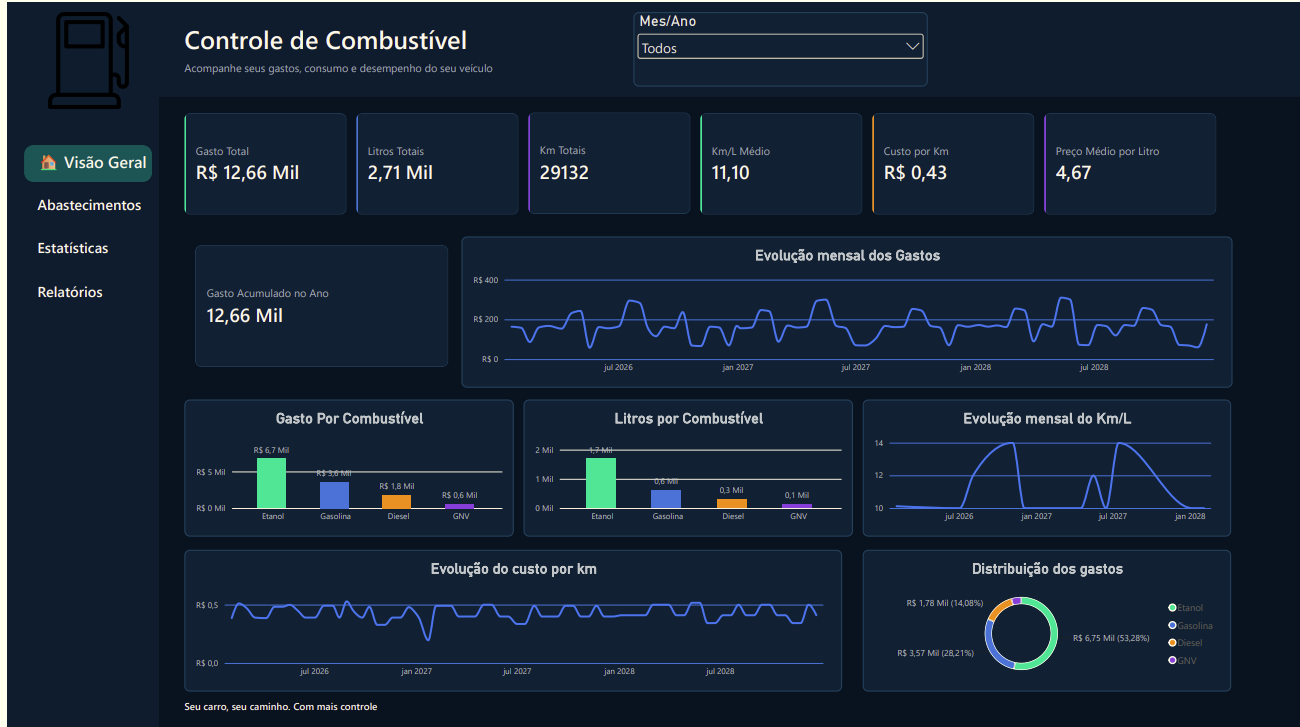

The page's visual inventory and layout, read from the dashboard file:
{"tool":"powerbi","page":{"name":"Página 1","canvas":[1920,1080],"ordinal":0},"visuals":[{"type":"shape","box":[0,0,1920.2,140.4],"z":0},{"type":"cardVisual","fields":{"Data":["Sum(Tabela1.Valor)"]},"box":[263,165,240,150],"z":1000},{"type":"cardVisual","fields":{"Data":["Sum(Tabela1.Litros)"]},"box":[518,165,240,150],"z":2000},{"type":"cardVisual","fields":{"Data":["Sum(Tabela1.Km Rodados)"]},"box":[773.3,164.2,240,150],"z":3000},{"type":"cardVisual","fields":{"Data":["Avg(Tabela1.Km/L)"]},"box":[1028,165,240,150],"z":4000},{"type":"cardVisual","fields":{"Data":["Tabela1.Custo por Km"]},"box":[1283,165,240,150],"z":5000},{"type":"columnChart","title":"Gasto Por Combustível","fields":{"Category":["Tabela1.Combustivel"],"Y":["Sum(Tabela1.Valor)"]},"box":[263,590,488,203],"z":6000},{"type":"columnChart","title":"Litros por Combustível","fields":{"Category":["Tabela1.Combustivel"],"Y":["Sum(Tabela1.Litros)"]},"box":[766,590,488,203],"z":7000},{"type":"lineChart","title":"Evolução mensal dos Gastos","fields":{"Category":["Tabela1.Data.Variation.Hierarquia de datas.Ano"],"Y":["Sum(Tabela1.Valor)"]},"box":[673.9,347.8,1142.6,224.6],"z":8000},{"type":"slicer","fields":{"Values":["Calendario.Mes Ano"]},"box":[928.8,15.1,436.3,110.2],"z":9000},{"type":"cardVisual","title":"Gasto Acumulado no Ano","fields":{"Data":["Tabela1.Gasto Acumulado Ano"]},"box":[278.6,360.7,375,180],"z":10000},{"type":"lineChart","title":"Evolução mensal do Km/L","fields":{"Category":["Tabela1.Data.Variation.Hierarquia de datas.Ano"],"Y":["Sum(Tabela1.Km/L)"]},"box":[1269,590,546,203],"z":11000},{"type":"lineChart","title":"Evolução do custo por km","fields":{"Category":["Tabela1.Data.Variation.Hierarquia de datas.Ano"],"Y":["Tabela1.Custo por Km"]},"box":[263,813,975,210],"z":12000},{"type":"shape","box":[0,0,225,1080],"z":13000},{"type":"textbox","box":[263,86,750,33],"z":14000},{"type":"textbox","box":[263,30,675,53],"z":15000},{"type":"cardVisual","fields":{"Data":["Tabela1.Preço Médio por Litro"]},"box":[1538,165,255,150],"z":16000},{"type":"donutChart","title":"Distribuição dos gastos","fields":{"Category":["Tabela1.Combustivel"],"Y":["Sum(Tabela1.Valor)"]},"box":[1269,813,546,210],"z":17000},{"type":"shape","box":[25,212,190,55],"z":18000},{"type":"textbox","box":[45,220,165,45],"z":19000},{"type":"textbox","box":[45,285,165,45],"z":20000},{"type":"textbox","box":[45,350,165,45],"z":21000},{"type":"textbox","box":[45,415,165,45],"z":22000},{"type":"textbox","box":[263,1035,500,25],"z":23000},{"type":"image","box":[30.2,15.1,179.3,142.6],"z":24000}]}

Visuals, with their boxes on the page's 1920x1080 design canvas (x1, y1, x2, y2). These are canvas units, not pixel positions in the 1300x727 screenshot, which may show the page scaled, cropped or inside an application window:
shape: (left=0, top=0, right=1920, bottom=140)
cardVisual - Sum(Tabela1.Valor): (left=263, top=165, right=503, bottom=315)
cardVisual - Sum(Tabela1.Litros): (left=518, top=165, right=758, bottom=315)
cardVisual - Sum(Tabela1.Km Rodados): (left=773, top=164, right=1013, bottom=314)
cardVisual - Avg(Tabela1.Km/L): (left=1028, top=165, right=1268, bottom=315)
cardVisual - Tabela1.Custo por Km: (left=1283, top=165, right=1523, bottom=315)
"Gasto Por Combustível" columnChart: (left=263, top=590, right=751, bottom=793)
"Litros por Combustível" columnChart: (left=766, top=590, right=1254, bottom=793)
"Evolução mensal dos Gastos" lineChart: (left=674, top=348, right=1816, bottom=572)
slicer - Calendario.Mes Ano: (left=929, top=15, right=1365, bottom=125)
"Gasto Acumulado no Ano" cardVisual: (left=279, top=361, right=654, bottom=541)
"Evolução mensal do Km/L" lineChart: (left=1269, top=590, right=1815, bottom=793)
"Evolução do custo por km" lineChart: (left=263, top=813, right=1238, bottom=1023)
shape: (left=0, top=0, right=225, bottom=1080)
textbox: (left=263, top=86, right=1013, bottom=119)
textbox: (left=263, top=30, right=938, bottom=83)
cardVisual - Tabela1.Preço Médio por Litro: (left=1538, top=165, right=1793, bottom=315)
"Distribuição dos gastos" donutChart: (left=1269, top=813, right=1815, bottom=1023)
shape: (left=25, top=212, right=215, bottom=267)
textbox: (left=45, top=220, right=210, bottom=265)
textbox: (left=45, top=285, right=210, bottom=330)
textbox: (left=45, top=350, right=210, bottom=395)
textbox: (left=45, top=415, right=210, bottom=460)
textbox: (left=263, top=1035, right=763, bottom=1060)
image: (left=30, top=15, right=210, bottom=158)
